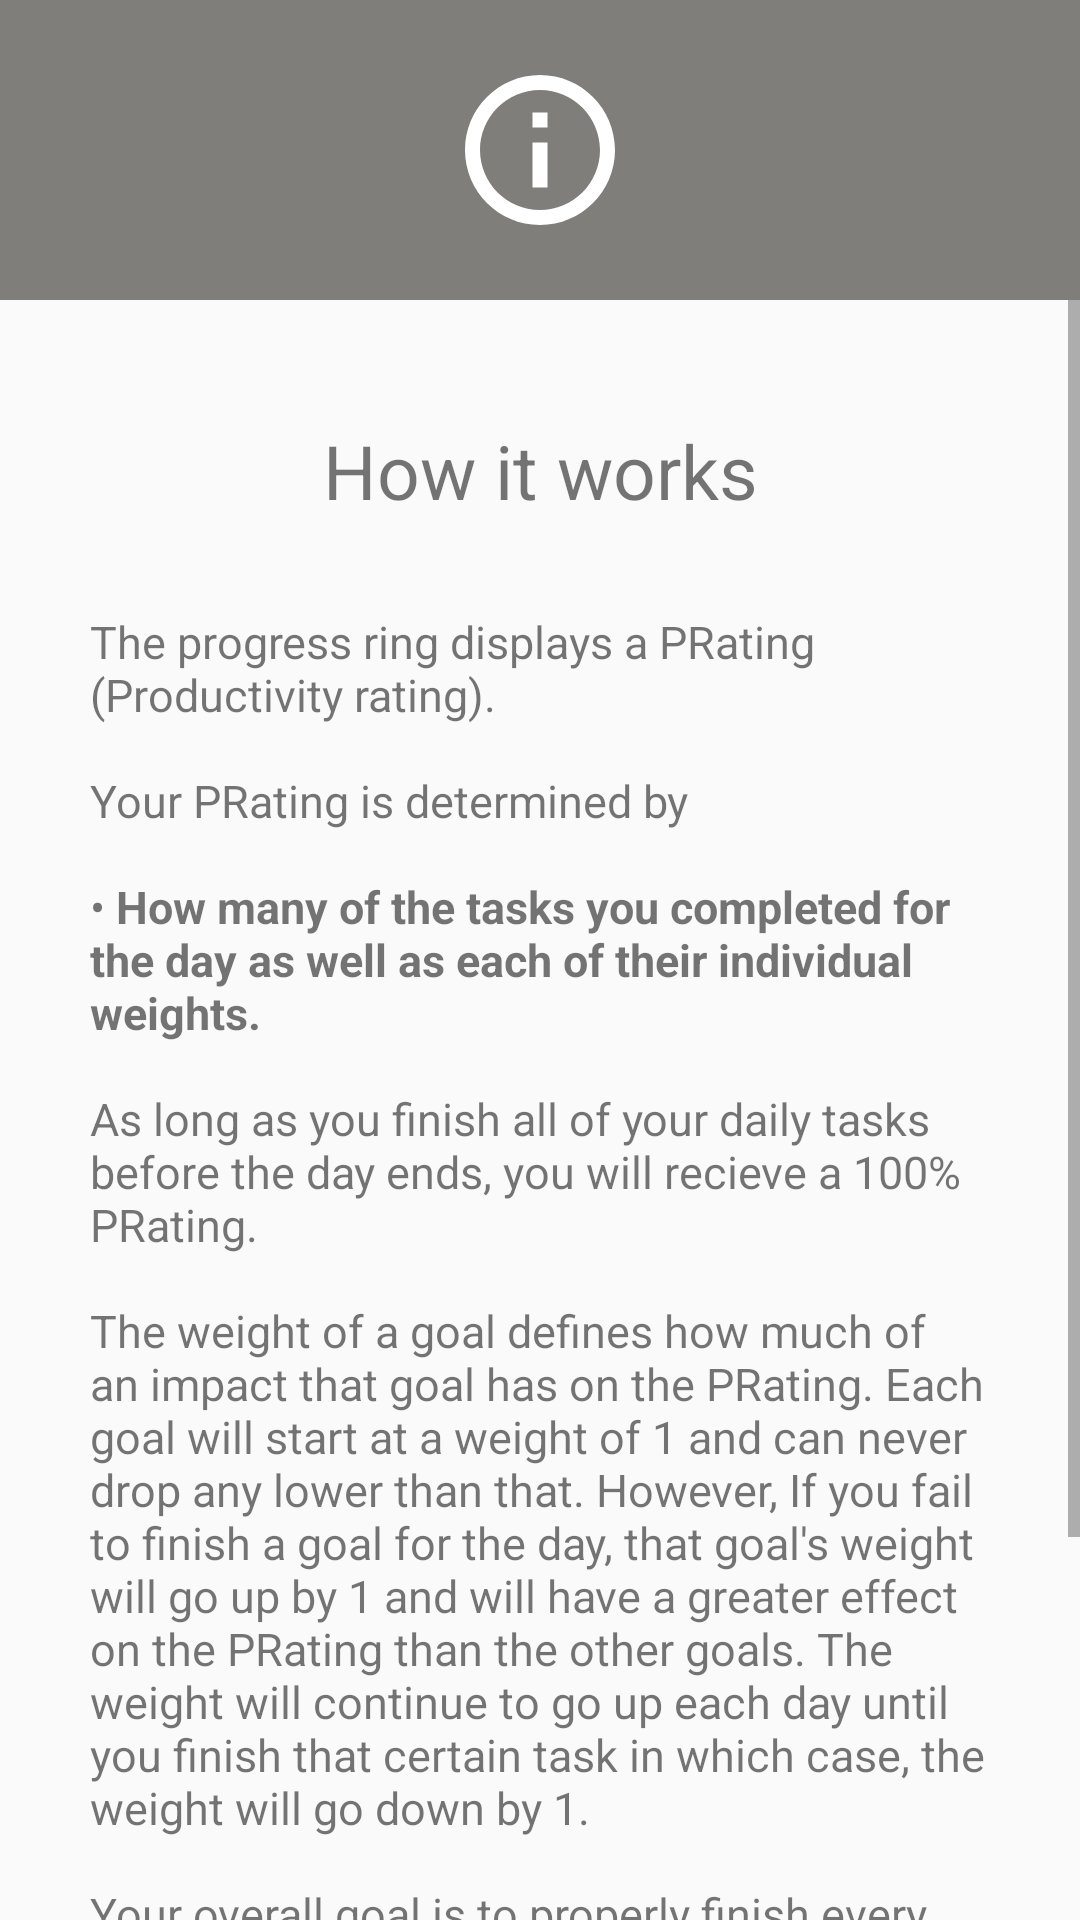

Icons on this 1080*1920 Android screen, each with its box as bbox(x1, y1, x2, y2):
info: bbox(465, 75, 615, 225)
